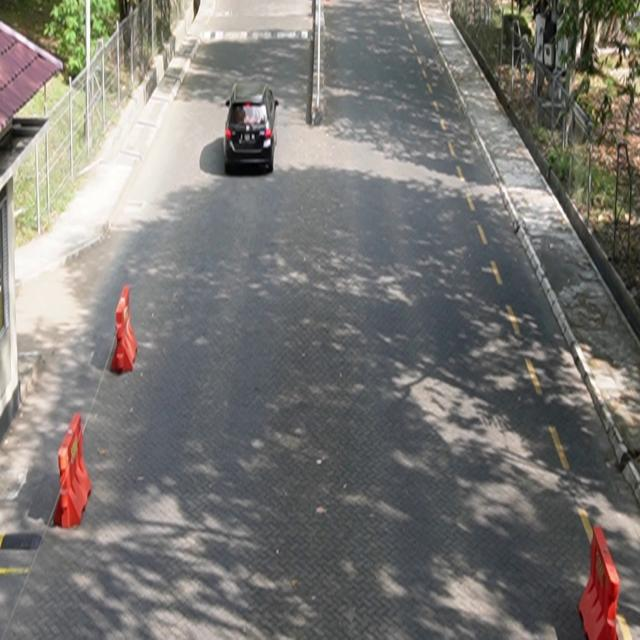car: (224, 82, 280, 175)
